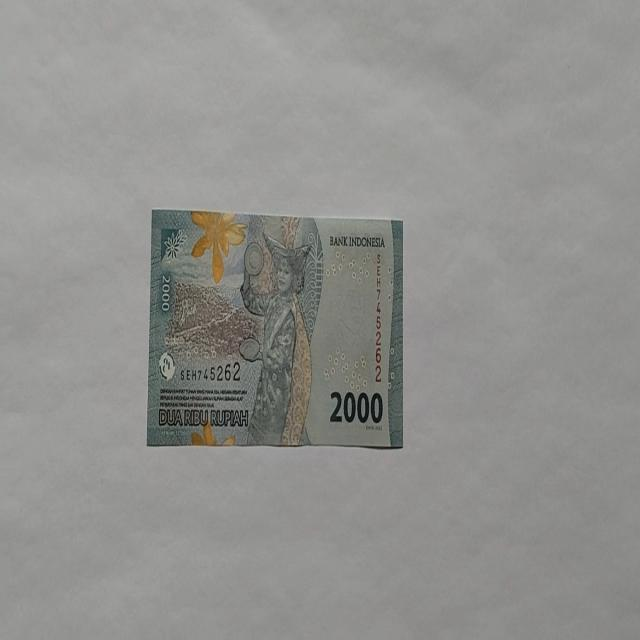dua ribu rupiah: (146, 209, 404, 450), (238, 231, 314, 446), (189, 208, 247, 284)
